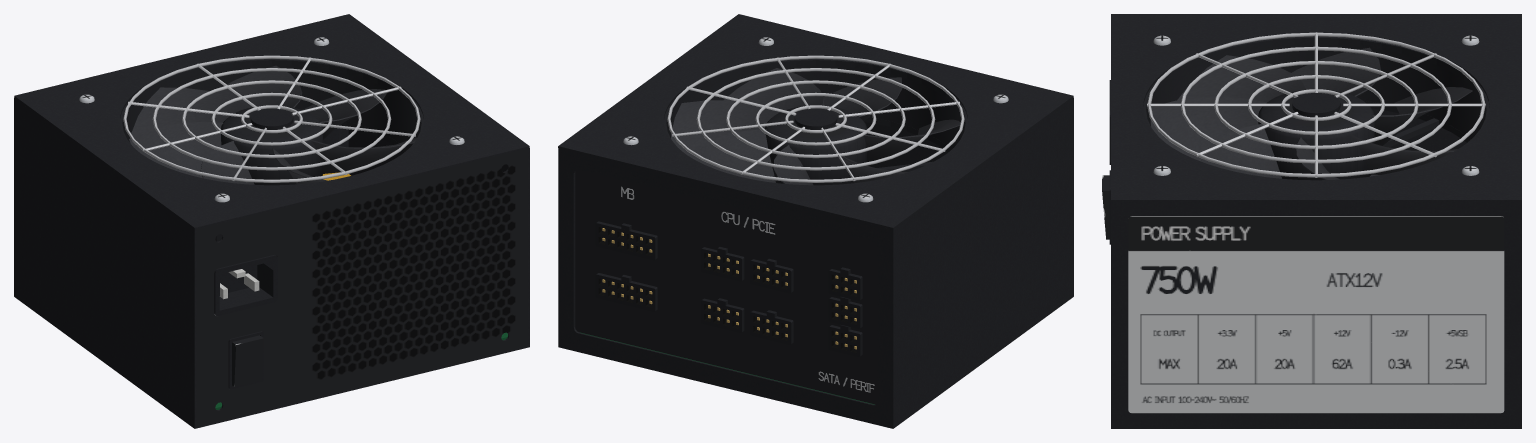
Rendered from psu.glb.
The picture shows the model from 3 angles, left to right: view 1: azimuth 30°, elevation 25°; view 2: azimuth 150°, elevation 25°; view 3: azimuth 270°, elevation 25°; orthographic projection. The views are drawn at different scales.
Visible parts, largest first — view 1: Steel housing, 120 mm fan blades, Fan finger guard, 120 mm fan frame, 120 mm fan hub, AC inlet (IEC C14), Rocker switch, Fan screws, Rocker switch bezel; view 2: Steel housing, Modular connector board, 120 mm fan blades, Fan finger guard, Modular sockets, 120 mm fan frame, 120 mm fan hub, Modular socket pins, Fan screws; view 3: Side label, Steel housing, 120 mm fan blades, Fan finger guard, 120 mm fan frame, 120 mm fan hub, Fan screws, Rocker switch.
Boxes of the visible parts, <box> form: Steel housing: <box>14,14,529,428</box>; 120 mm fan blades: <box>128,65,416,184</box>; Fan finger guard: <box>123,55,420,182</box>; 120 mm fan frame: <box>120,59,423,255</box>; 120 mm fan hub: <box>221,106,322,185</box>; AC inlet (IEC C14): <box>214,255,277,315</box>; Rocker switch: <box>232,335,263,386</box>; Fan screws: <box>79,37,464,202</box>; Rocker switch bezel: <box>228,331,263,389</box>; Steel housing: <box>558,14,1073,428</box>; Modular connector board: <box>575,169,877,404</box>; 120 mm fan blades: <box>670,68,960,185</box>; Fan finger guard: <box>667,55,964,182</box>; Modular sockets: <box>595,221,862,357</box>; 120 mm fan frame: <box>664,59,967,171</box>; 120 mm fan hub: <box>765,106,866,185</box>; Modular socket pins: <box>602,228,856,349</box>; Fan screws: <box>623,37,1008,202</box>; Side label: <box>1128,216,1504,413</box>; Steel housing: <box>1111,14,1521,428</box>; 120 mm fan blades: <box>1150,47,1472,179</box>; Fan finger guard: <box>1147,32,1485,177</box>; 120 mm fan frame: <box>1143,36,1489,176</box>; 120 mm fan hub: <box>1258,90,1374,180</box>; Fan screws: <box>1153,35,1479,175</box>; Rocker switch: <box>1102,175,1109,239</box>.
Bounding box in the file's own units: 0.1501 × 0.0875 × 0.143.
20 materials, 20 textured.
